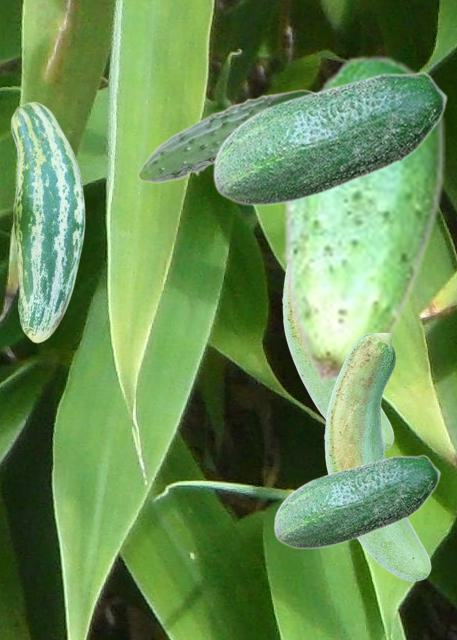cucumber: (282, 53, 444, 383), (212, 71, 447, 205), (324, 333, 430, 580), (282, 275, 393, 451), (10, 101, 84, 342), (137, 89, 312, 182), (273, 454, 440, 548)
